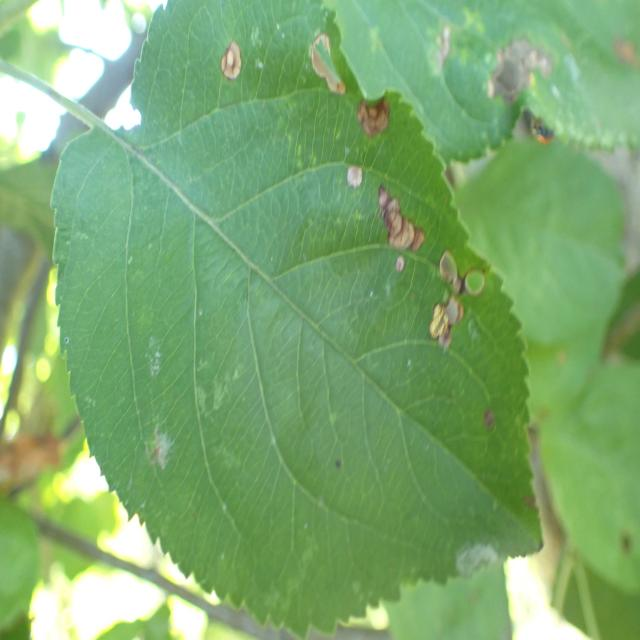frog-eye-leaf-spot: (48, 2, 542, 640), (322, 0, 640, 165)
